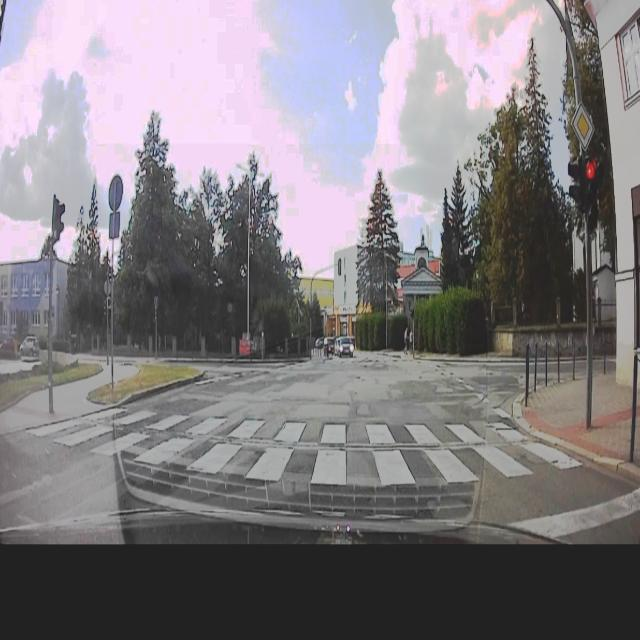Priority road: (571, 99, 596, 151)
